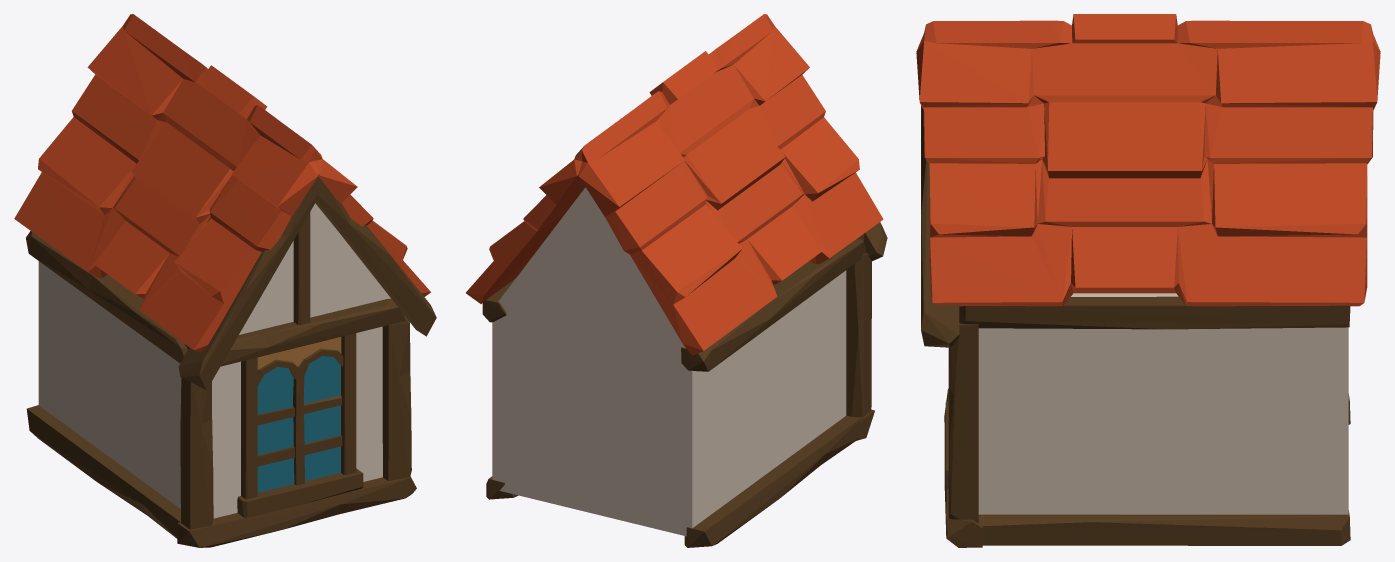
The model's file is SM_dormer_04.fbx.
3 renders of one model, left to right at view 1: azimuth 30°, elevation 25°; view 2: azimuth 150°, elevation 25°; view 3: azimuth 270°, elevation 25°, orthographic. The views are drawn at different scales.
Parts seen in each view (by area): view 1: Box41333; view 2: Box41333; view 3: Box41333.
Part boxes in pixels (x1,y1,x2,y2): Box41333: (14,14,436,547); Box41333: (466,14,887,547); Box41333: (916,14,1380,547).
Bounding box in the file's own units: 101 × 149 × 134.
